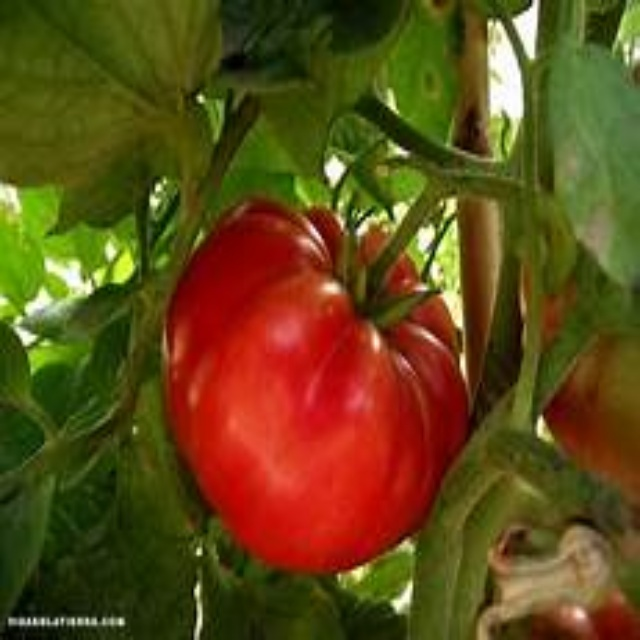tomato: (167, 195, 477, 568)
